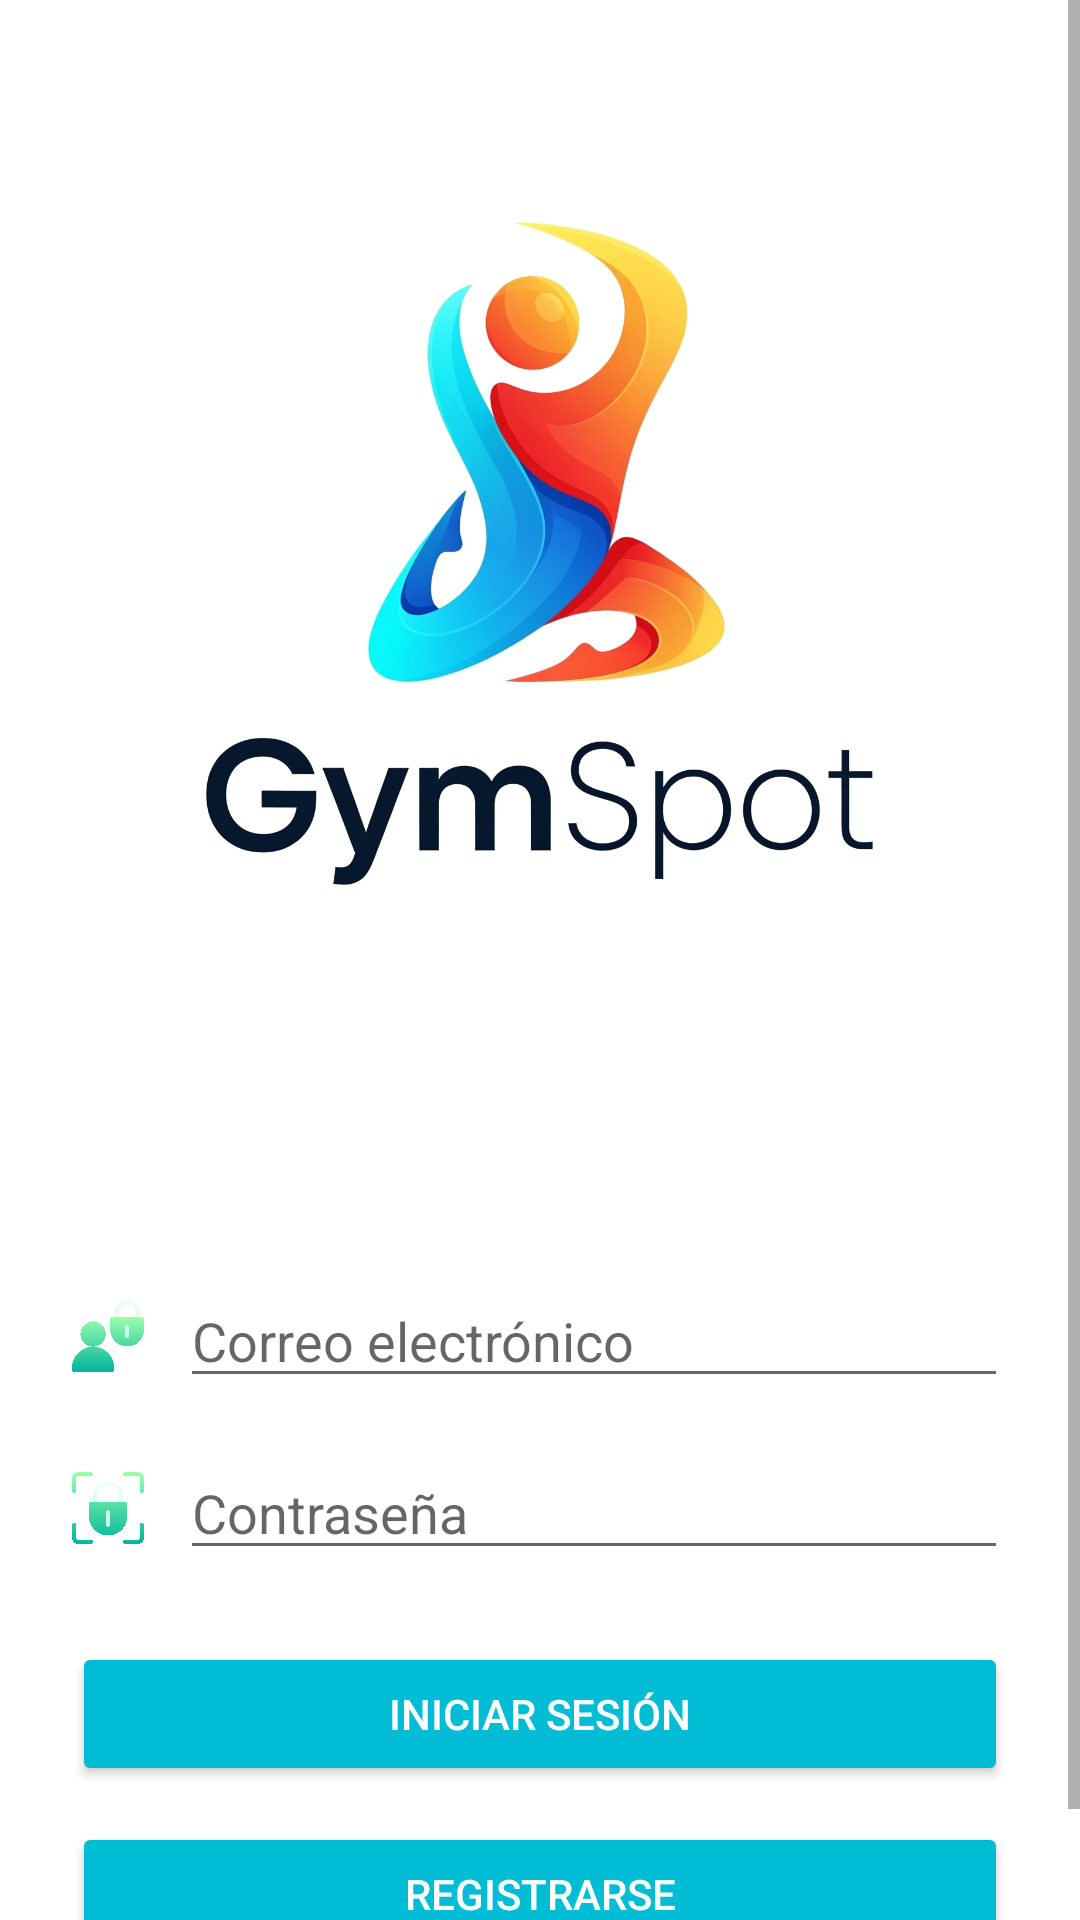

Icon bounding boxes for this 1080w x 1920h phone screenshot, format {"x1": x1, "y1": y1, "x2": x2, "y2": y2}:
login: {"x1": 72, "y1": 1309, "x2": 144, "y2": 1372}
pass: {"x1": 72, "y1": 1472, "x2": 144, "y2": 1544}
